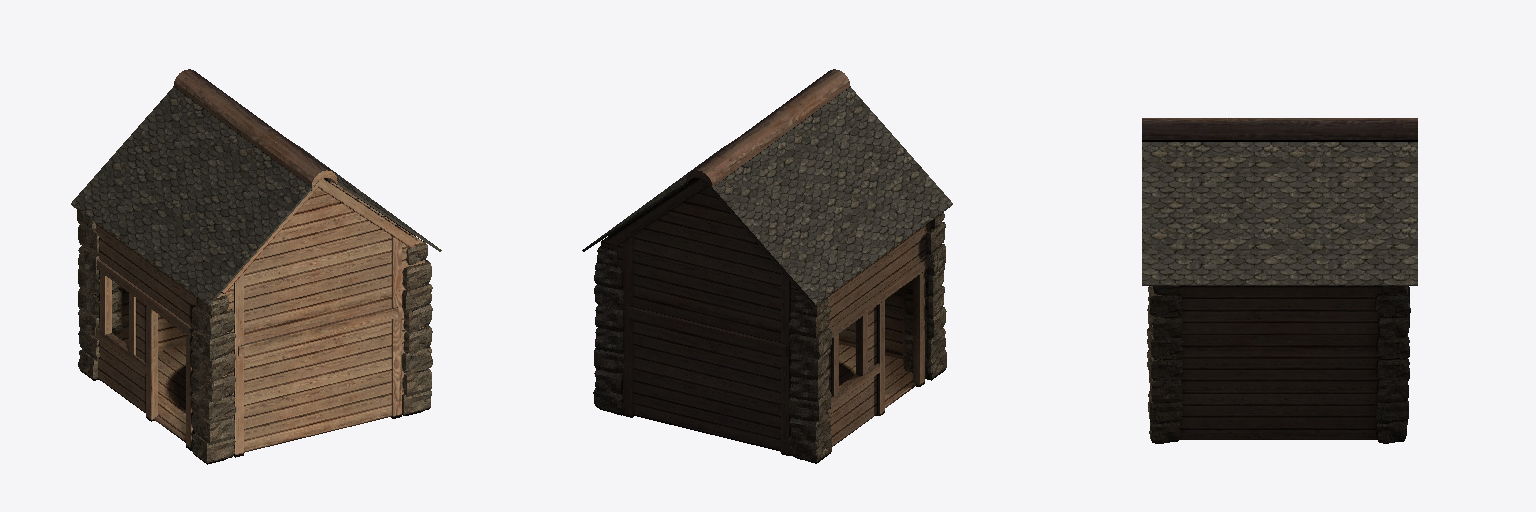
The picture shows the model from 3 angles: view 1: azimuth 30°, elevation 25°; view 2: azimuth 150°, elevation 25°; view 3: azimuth 270°, elevation 25°; orthographic projection.
Visible parts, largest first — view 1: material_1, material_2, material_0; view 2: material_1, material_2, material_0; view 3: material_2, material_1, material_0.
Part boxes in pixels (x1,y1,x2,y2): material_1: (94, 69, 424, 457); material_2: (71, 87, 441, 305); material_0: (77, 210, 432, 464); material_1: (601, 69, 931, 455); material_2: (582, 87, 952, 305); material_0: (593, 212, 946, 463); material_2: (1142, 140, 1417, 285); material_1: (1142, 118, 1417, 439); material_0: (1147, 286, 1410, 443).
Bounding box in the file's own units: 5.11 × 5.67 × 5.24.
7 materials, 7 textured.